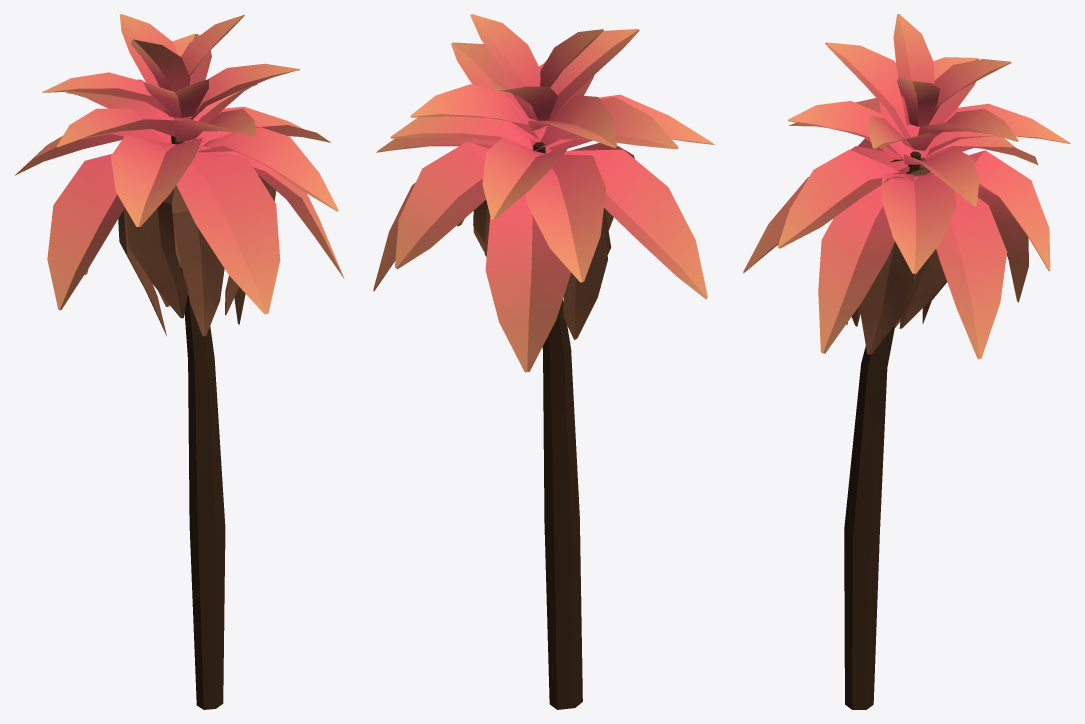
The picture shows the model from 3 angles, left to right: view 1: azimuth 30°, elevation 25°; view 2: azimuth 150°, elevation 25°; view 3: azimuth 270°, elevation 25°; orthographic projection. The views are drawn at different scales.
Parts seen in each view (by area): view 1: TreeDC; view 2: TreeDC; view 3: TreeDC.
Boxes of the visible parts, <box> form: TreeDC: <box>14,14,344,709</box>; TreeDC: <box>373,14,714,709</box>; TreeDC: <box>743,14,1070,709</box>.
Size of the model in its own units: 5.29 by 11.49 by 5.14.
Materials: 1 (1 with a texture image).
